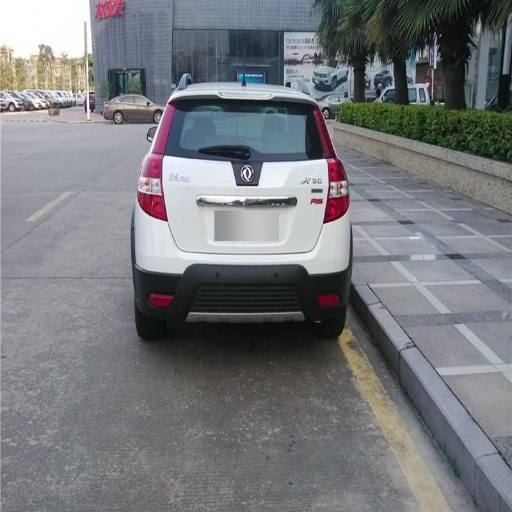back_bumper: (131, 210, 346, 323)
